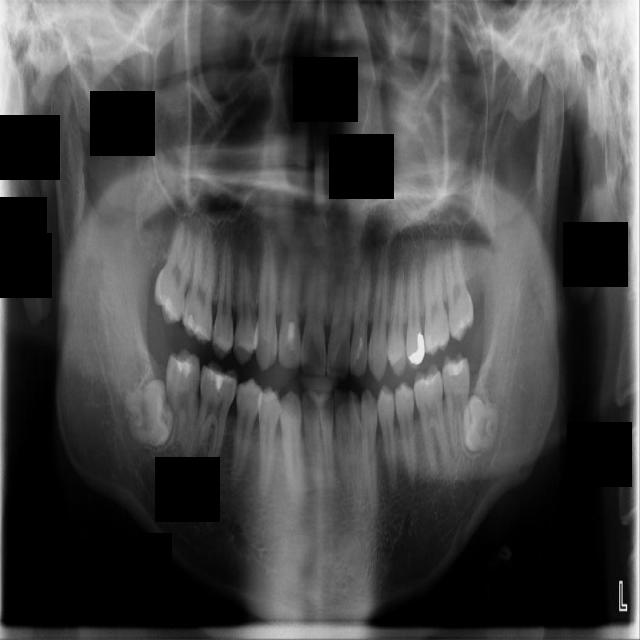52: (141, 260, 197, 328), (190, 358, 245, 413), (403, 362, 453, 414), (179, 286, 215, 348), (164, 348, 201, 399), (423, 306, 451, 357), (276, 315, 302, 369), (441, 351, 470, 395), (348, 328, 369, 378), (404, 324, 427, 369)
73: (600, 592, 606, 598)
BioHorizons Implant: (440, 222, 477, 342)
Biomet 3i Implant: (456, 393, 502, 456)
Blue Sky Bio Implant: (440, 351, 476, 455)
Caries: (148, 210, 200, 328)
Implant: (164, 348, 201, 453)
Keystone Dental Implant: (120, 376, 179, 453)
